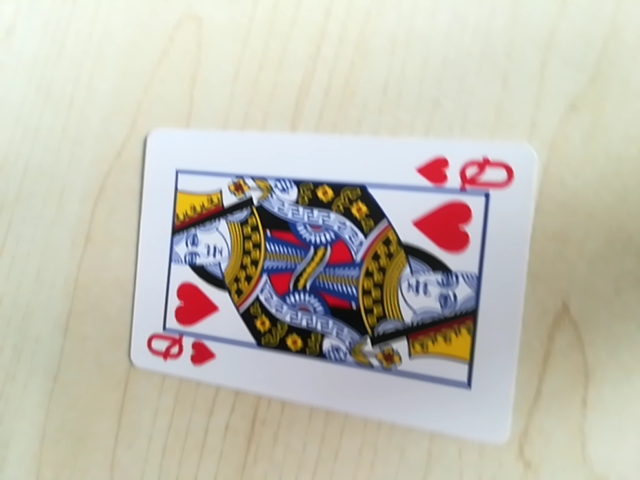hx q: (417, 148, 520, 197), (145, 330, 218, 369)
